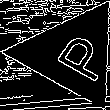P_NW: (36, 24, 108, 83)
